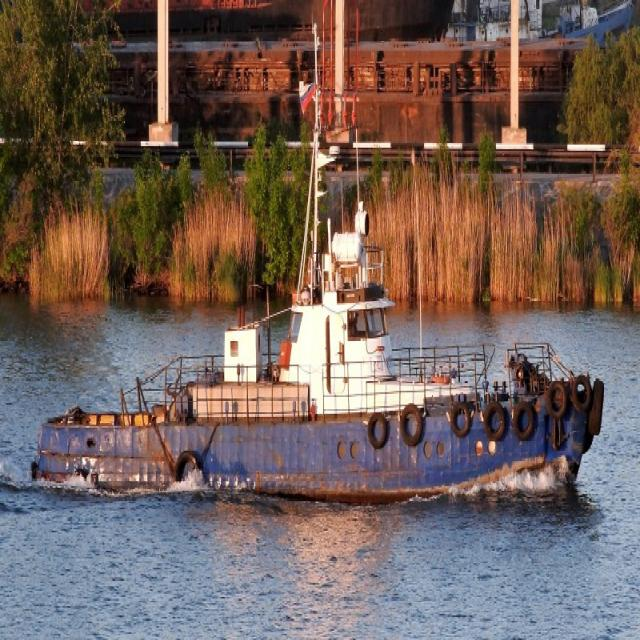tugboat: (31, 191, 607, 537)
